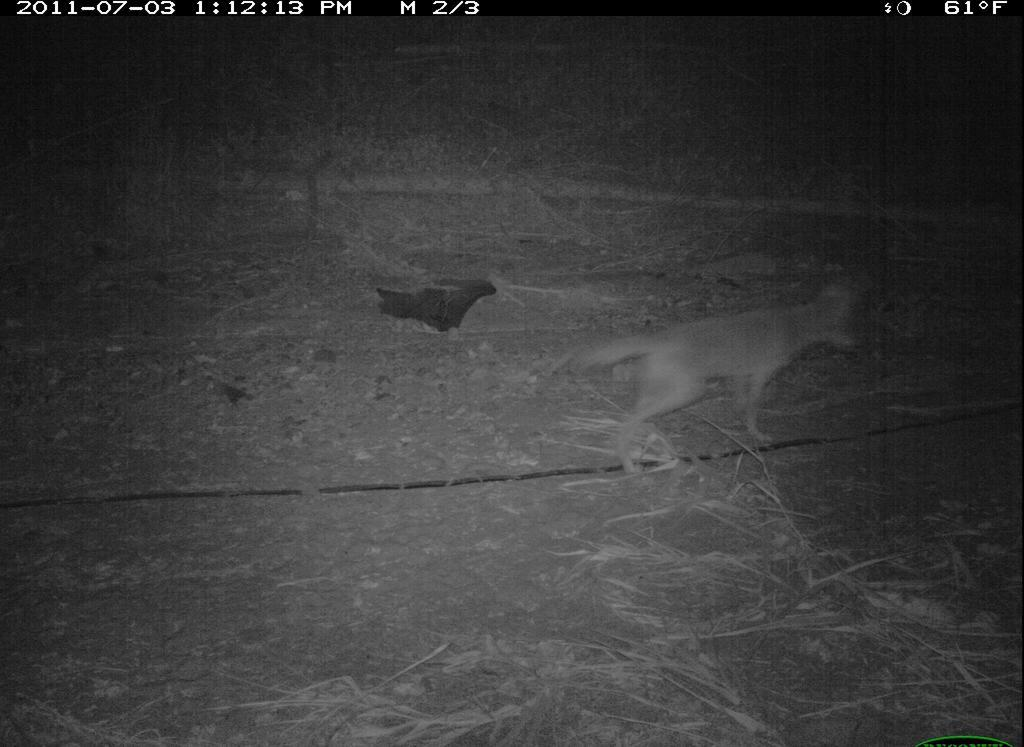coyote: (582, 269, 879, 486)
